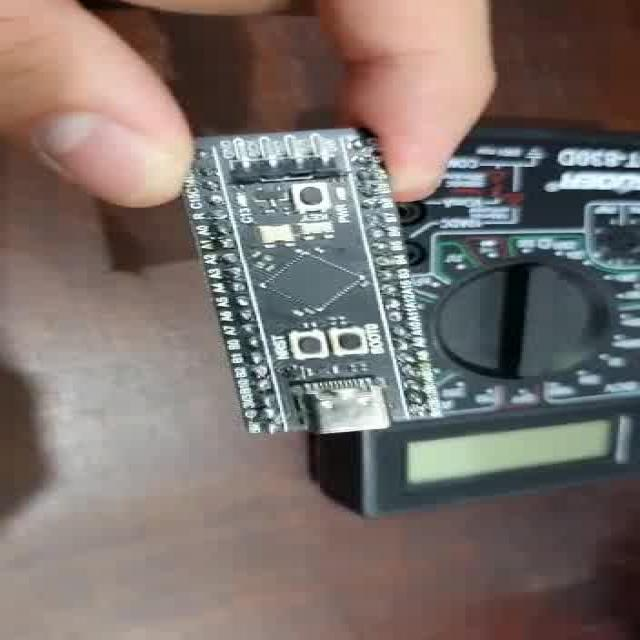multimeter: (403, 126, 640, 500)
stm32: (208, 140, 462, 430)
